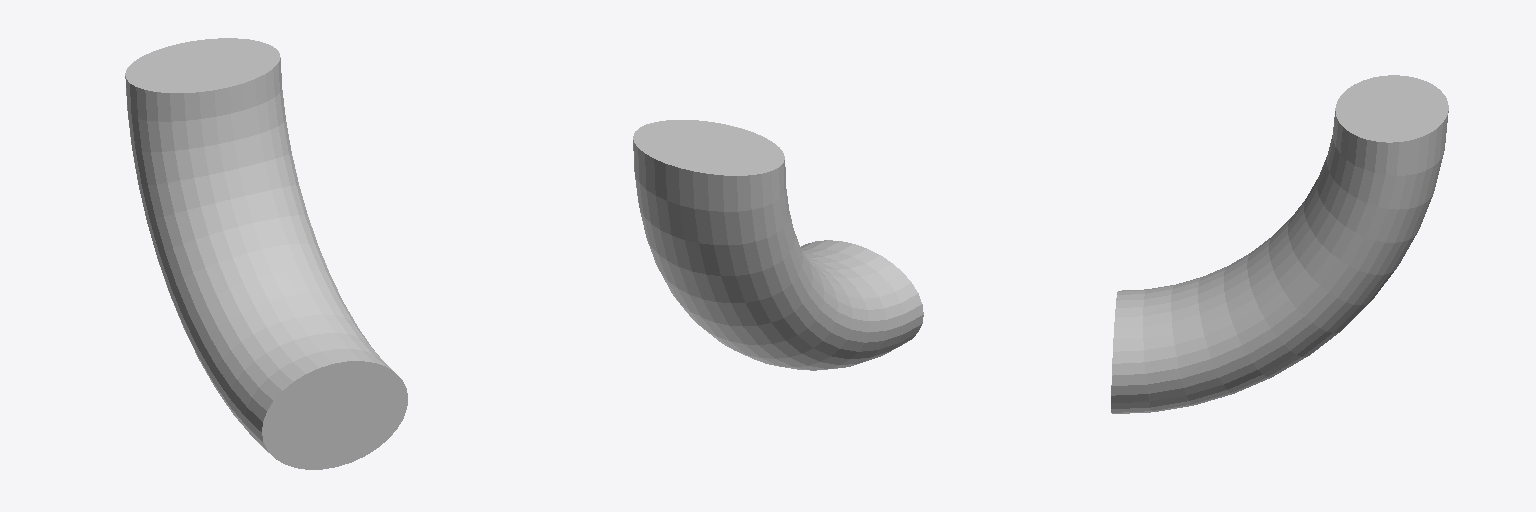
Rendered from F_M_tentacle.obj.
3 views of the same model, side by side, from view 1: azimuth 30°, elevation 25°; view 2: azimuth 150°, elevation 25°; view 3: azimuth 270°, elevation 25° (orthographic).
Parts seen in each view (by area): view 1: 실린더.011; view 2: 실린더.011; view 3: 실린더.011.
Part boxes in pixels (left/top/right/bottom): 실린더.011: left=125, top=38, right=407, bottom=469; 실린더.011: left=633, top=120, right=923, bottom=370; 실린더.011: left=1111, top=75, right=1448, bottom=413.
Size of the model in its own units: 0.0379 by 0.0722 by 0.0739.